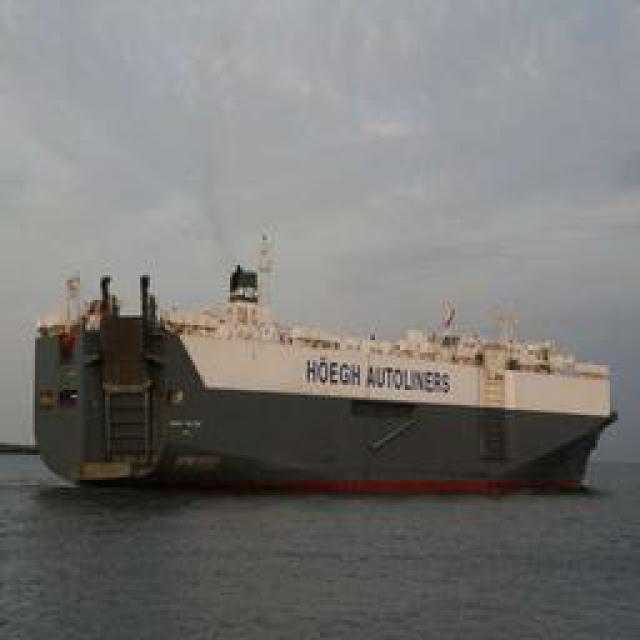Ship: (24, 253, 624, 498)
